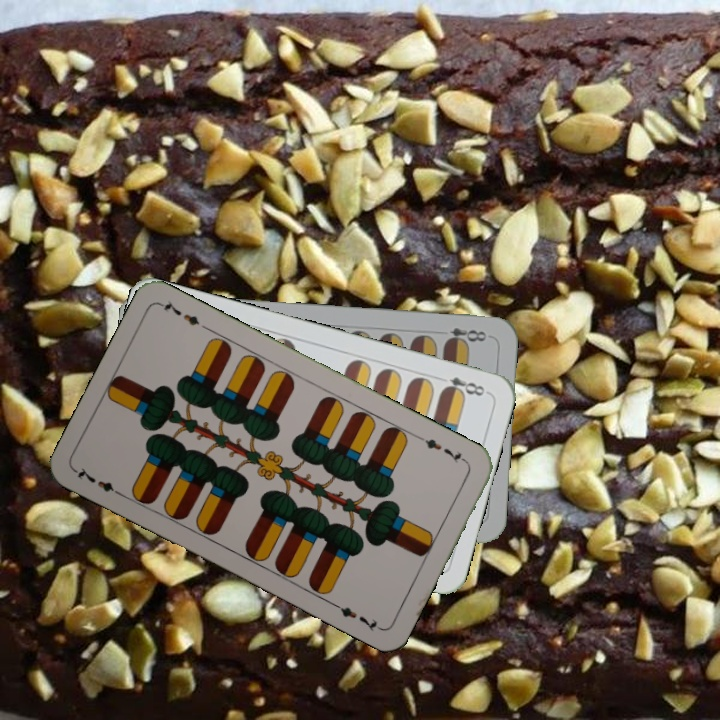E7: (71, 463, 126, 500), (415, 433, 470, 466)
E8: (433, 372, 491, 399), (441, 323, 489, 348)
